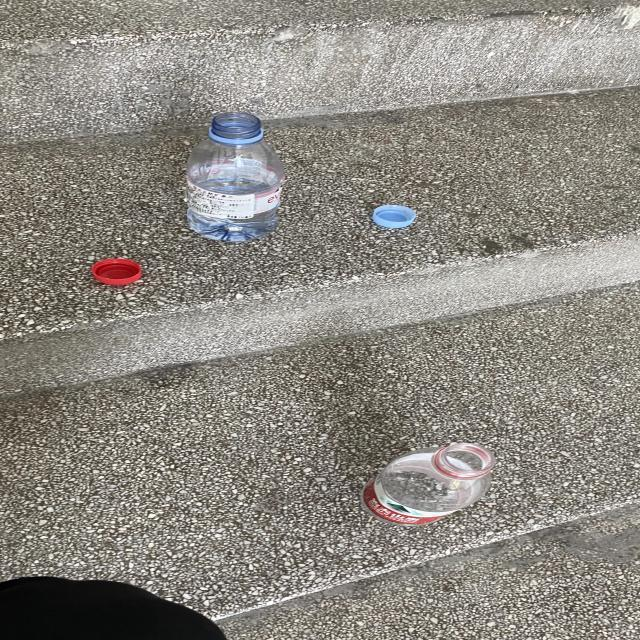Pet_Bottle: (370, 430, 512, 528), (178, 112, 284, 240)
